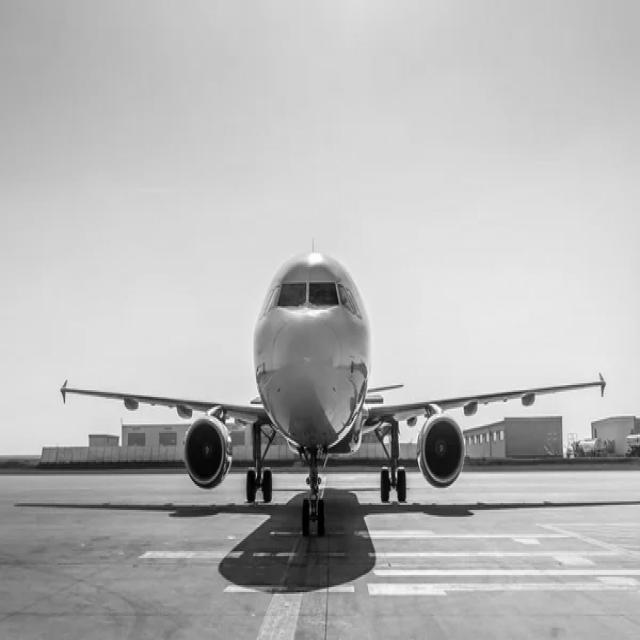Aircraft: (52, 241, 599, 522)
